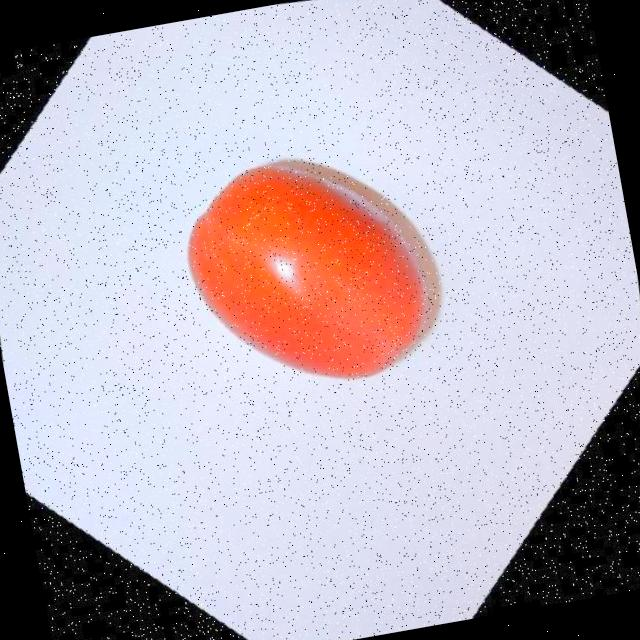tomato: (157, 114, 456, 402)
